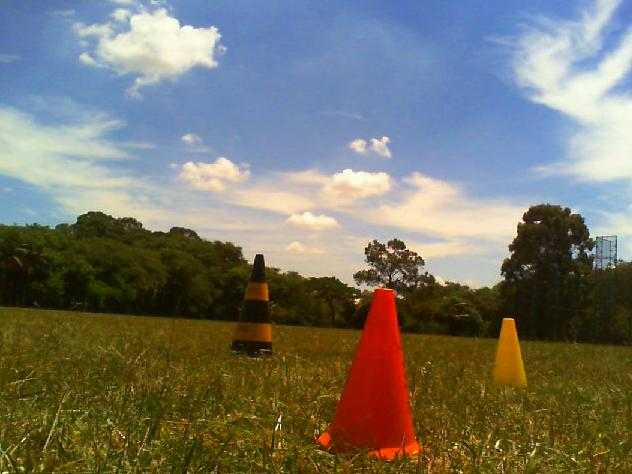0 cone: (320, 288, 425, 461), (231, 253, 273, 357), (493, 317, 528, 389)
